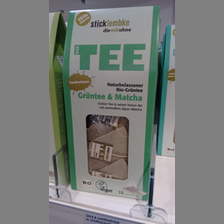tea: (60, 4, 159, 202)
